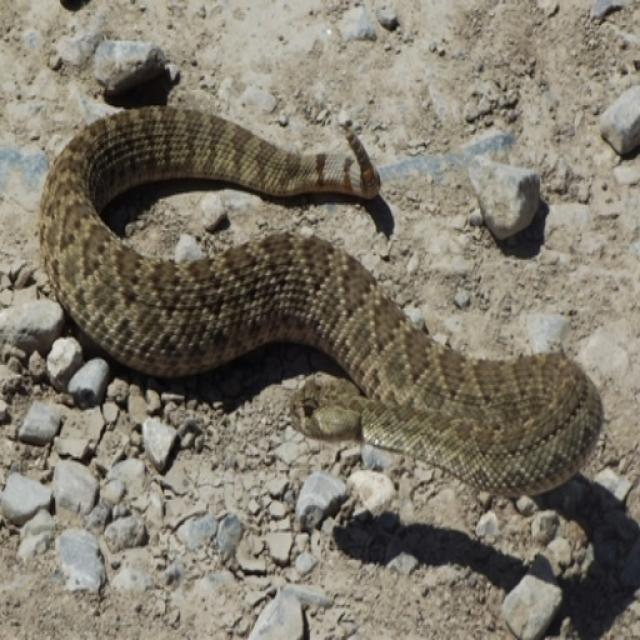snake: (36, 93, 607, 504)
